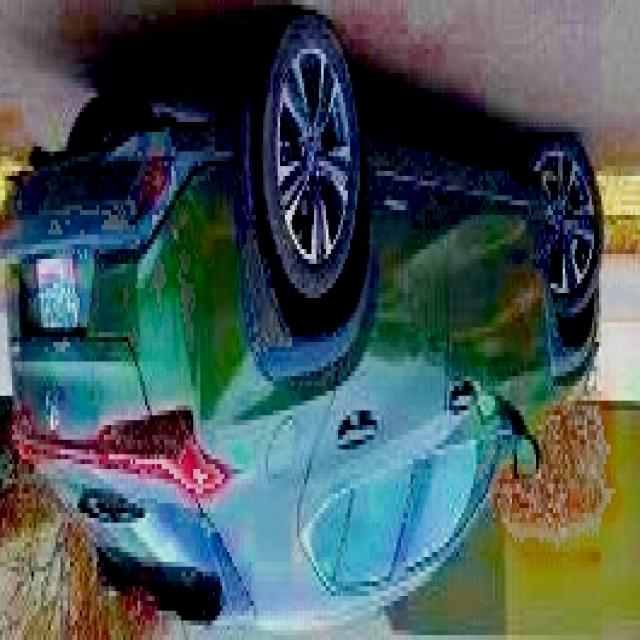green: (0, 17, 604, 623)
